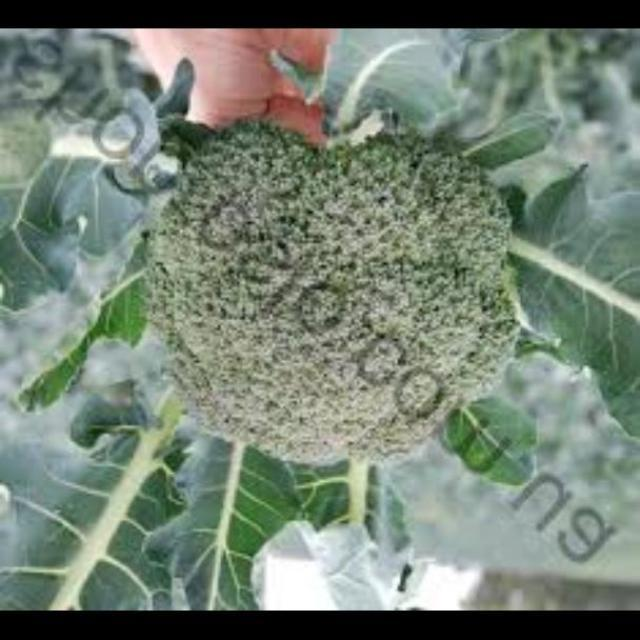Broccoli: (127, 128, 536, 480)
